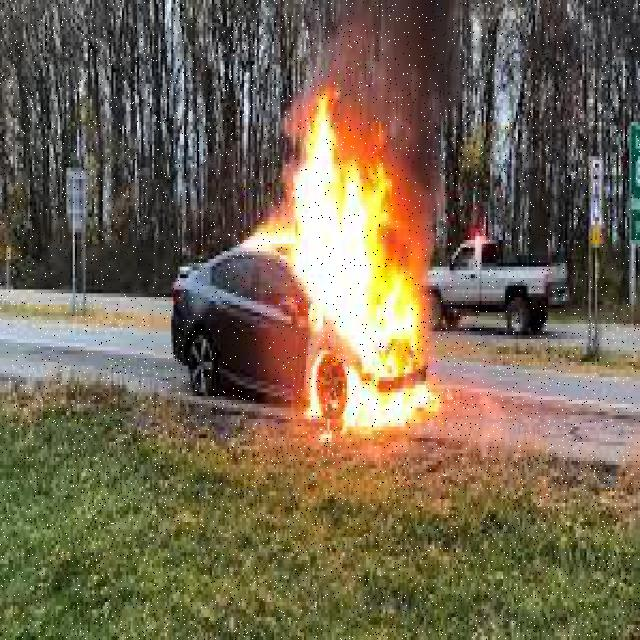fire: (284, 95, 442, 437)
